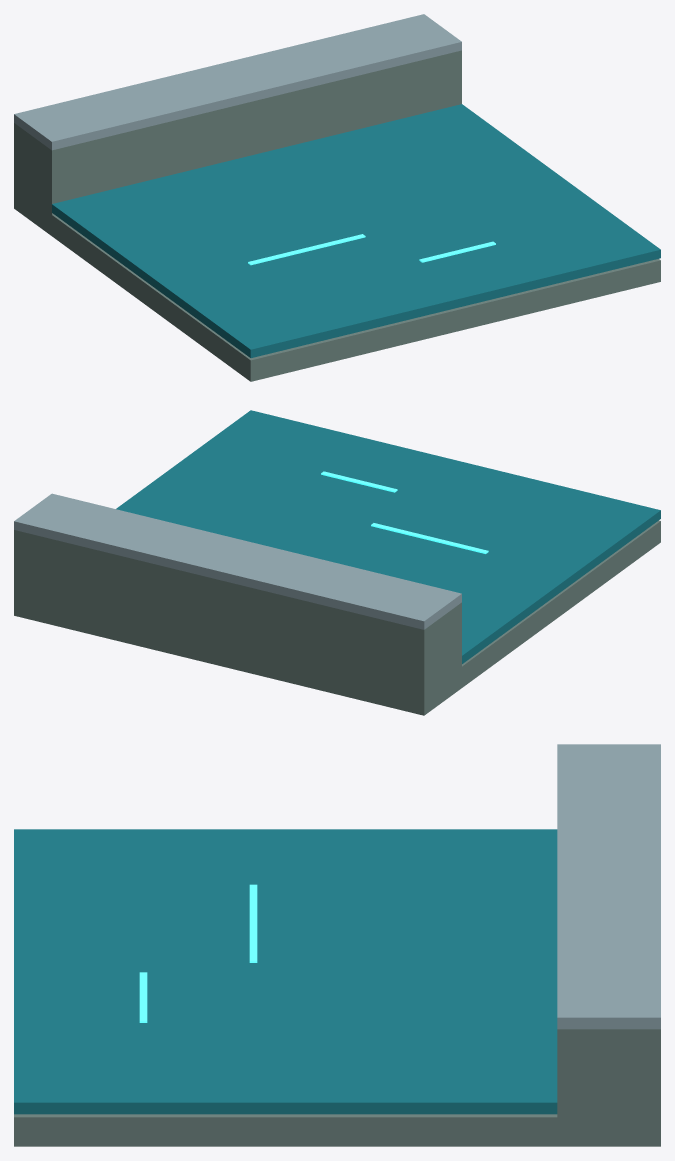
File: water_edge.glb
3 renders of one model, top to bottom at view 1: azimuth 30°, elevation 25°; view 2: azimuth 150°, elevation 25°; view 3: azimuth 270°, elevation 25°, orthographic. The views are drawn at different scales.
Visible parts, largest first — view 1: Water, Bank, BankCap, Bed, WaterRipple; view 2: Water, Bank, BankCap, Bed, WaterRipple; view 3: Water, BankCap, Bed, Bank, WaterRipple.
Part boxes in pixels (bbox=[...]): Water: bbox=[52, 104, 660, 357]; Bank: bbox=[14, 50, 461, 235]; BankCap: bbox=[14, 14, 461, 150]; Bed: bbox=[14, 187, 660, 381]; WaterRipple: bbox=[248, 234, 365, 265]; Water: bbox=[116, 410, 660, 663]; Bank: bbox=[14, 530, 461, 715]; BankCap: bbox=[14, 493, 461, 629]; Bed: bbox=[14, 520, 660, 715]; WaterRipple: bbox=[371, 523, 488, 553]; Water: bbox=[14, 829, 557, 1114]; BankCap: bbox=[557, 744, 660, 1029]; Bed: bbox=[14, 1114, 660, 1146]; Bank: bbox=[557, 1029, 660, 1146]; WaterRipple: bbox=[249, 884, 257, 962].
Size of the model in its own units: 2 by 0.44 by 2.
